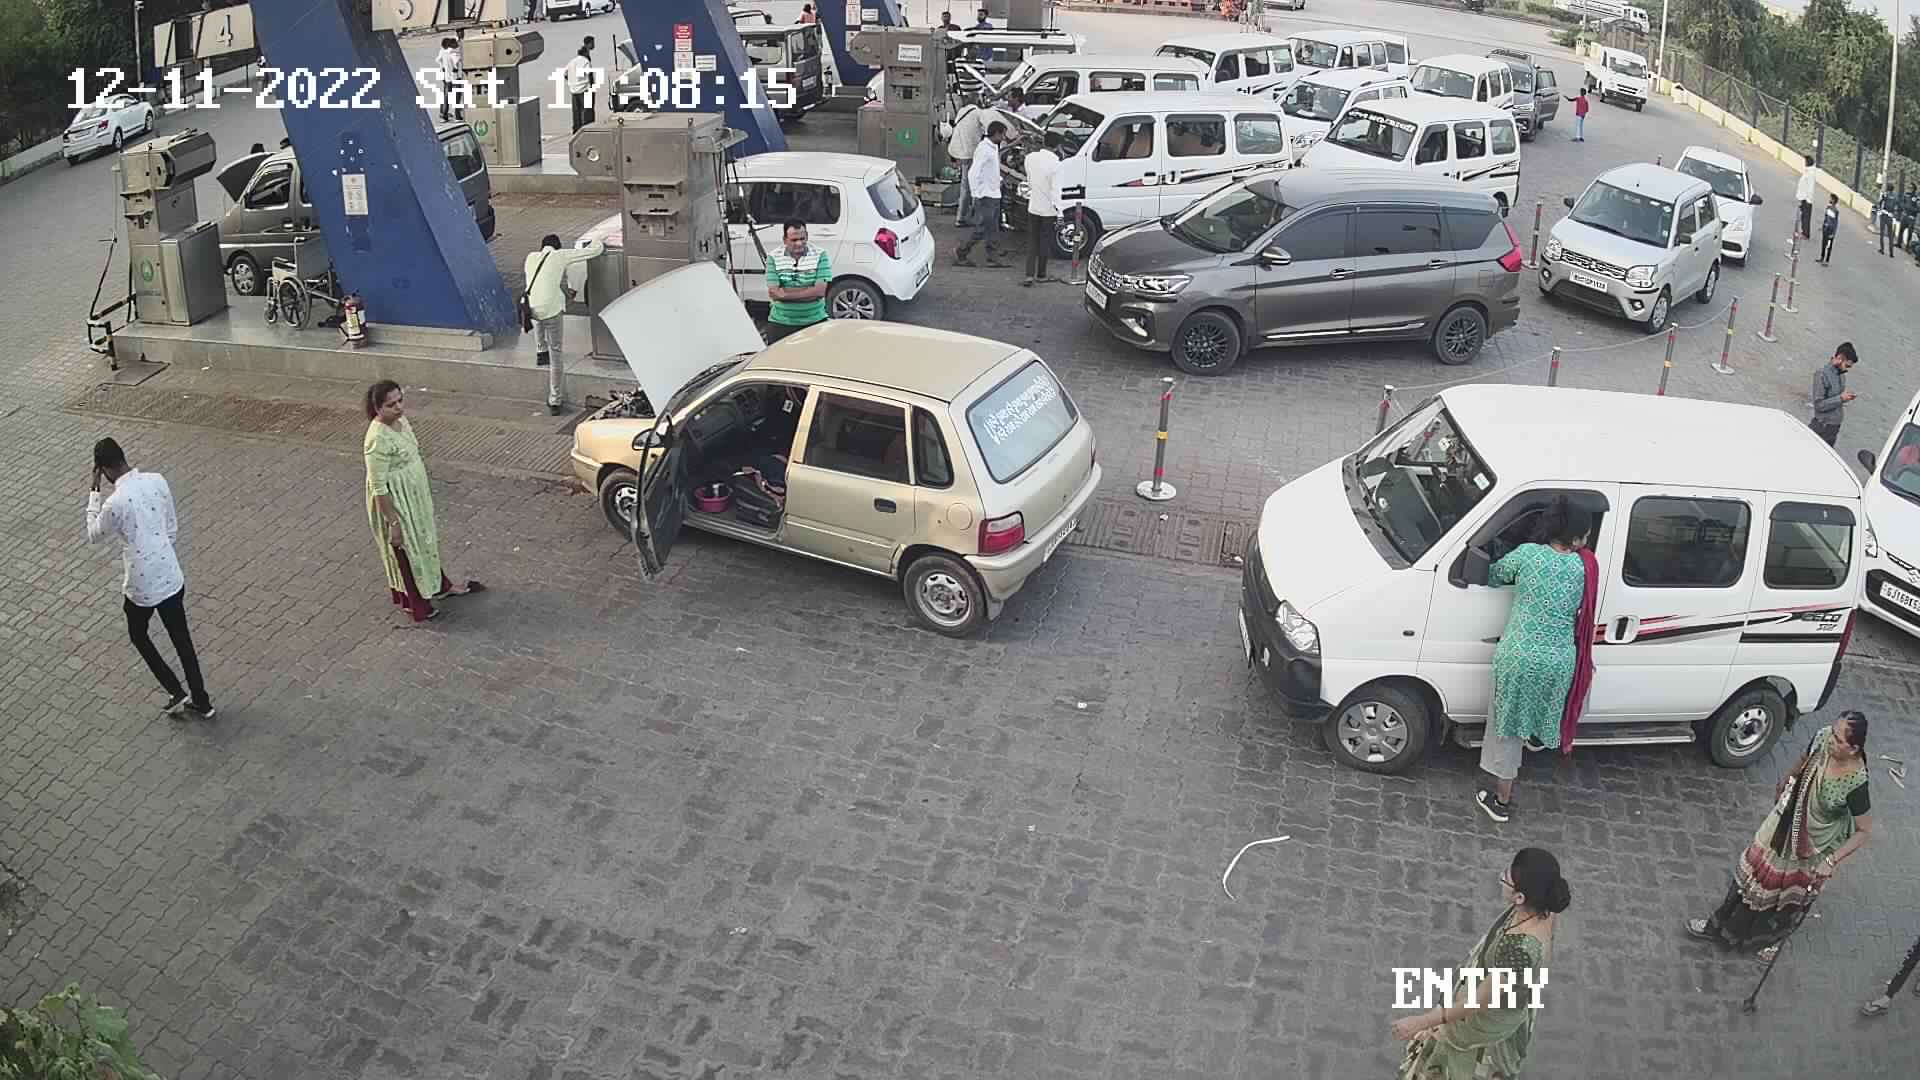Car: (1244, 385, 1878, 789), (556, 255, 1113, 645), (1079, 160, 1510, 373), (215, 94, 508, 336), (982, 80, 1299, 264), (674, 133, 942, 339), (1531, 148, 1731, 340), (936, 41, 1216, 171), (1296, 88, 1532, 233), (1837, 340, 1920, 695), (1381, 44, 1557, 156), (1655, 125, 1776, 272), (1145, 22, 1309, 120), (930, 17, 1087, 111), (1282, 20, 1422, 123), (49, 65, 171, 171), (1564, 13, 1669, 115)
